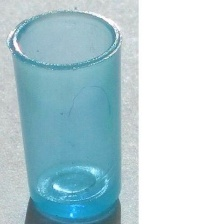glass: (4, 4, 134, 224)
